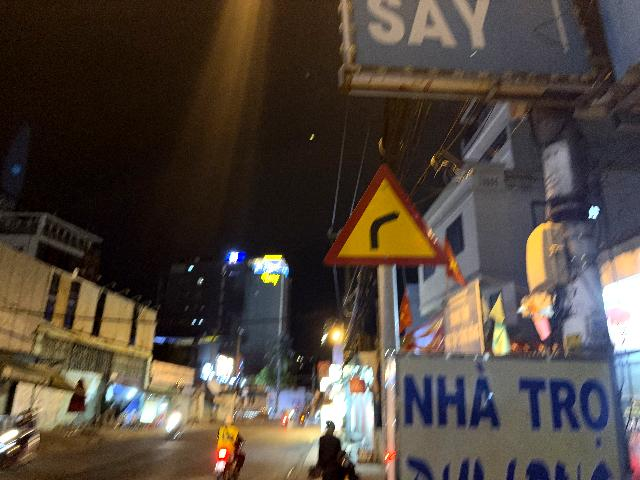cho-ngoat-nguy-hiem-ben-phai: (325, 163, 452, 267)
